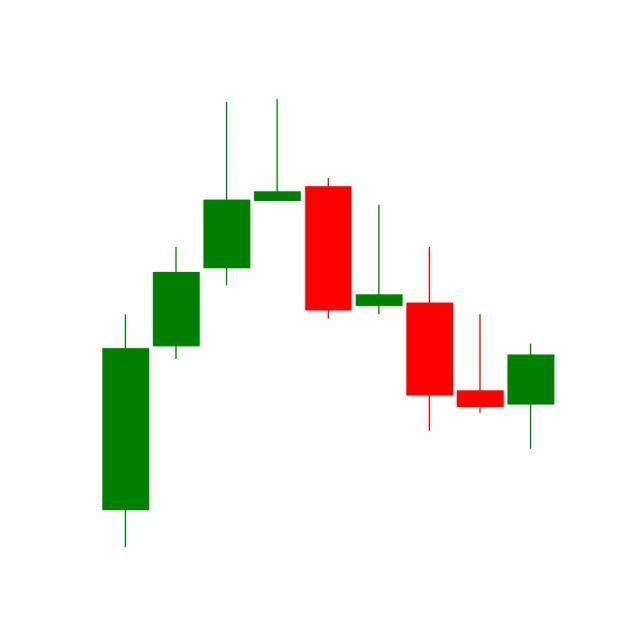Hikkake Pattern: (302, 175, 555, 453)
